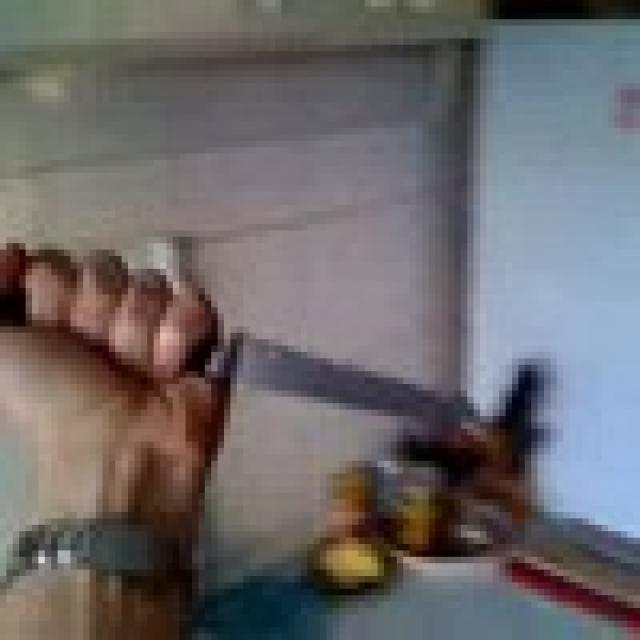Knife: (6, 268, 474, 442)
